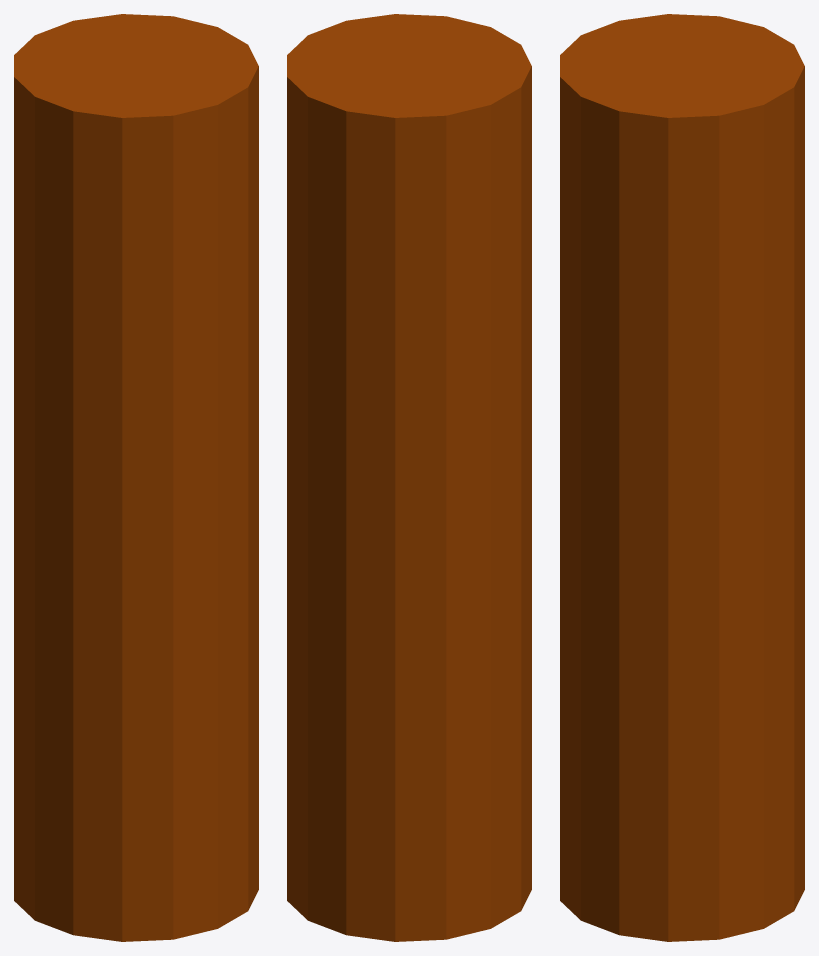
Rendered from Trunk.fbx.
3 views of the same model, side by side, from view 1: azimuth 30°, elevation 25°; view 2: azimuth 150°, elevation 25°; view 3: azimuth 270°, elevation 25° (orthographic).
Visible parts, largest first — view 1: Light Trunk; view 2: Light Trunk; view 3: Light Trunk.
Boxes of the visible parts, x1,y1,x2,y2 form: Light Trunk: (14,14,258,941); Light Trunk: (287,14,531,941); Light Trunk: (560,14,804,941).
Size of the model in its own units: 84.85 by 313 by 84.39.
